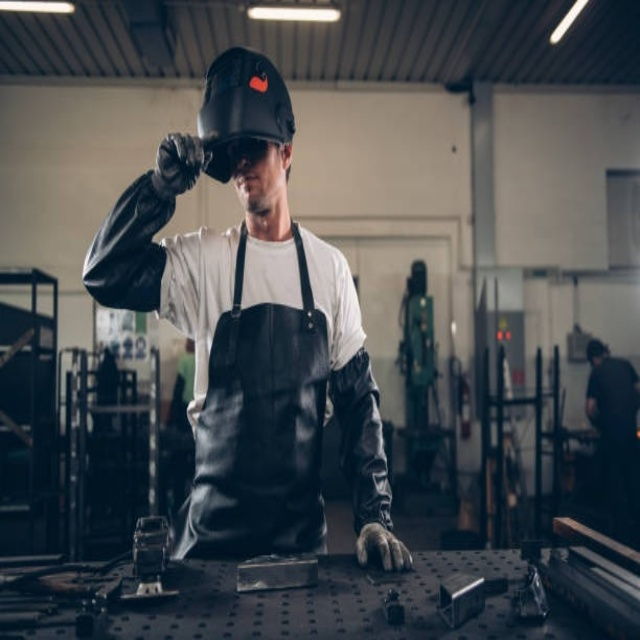Guantes: (153, 131, 209, 200), (356, 521, 412, 571)
